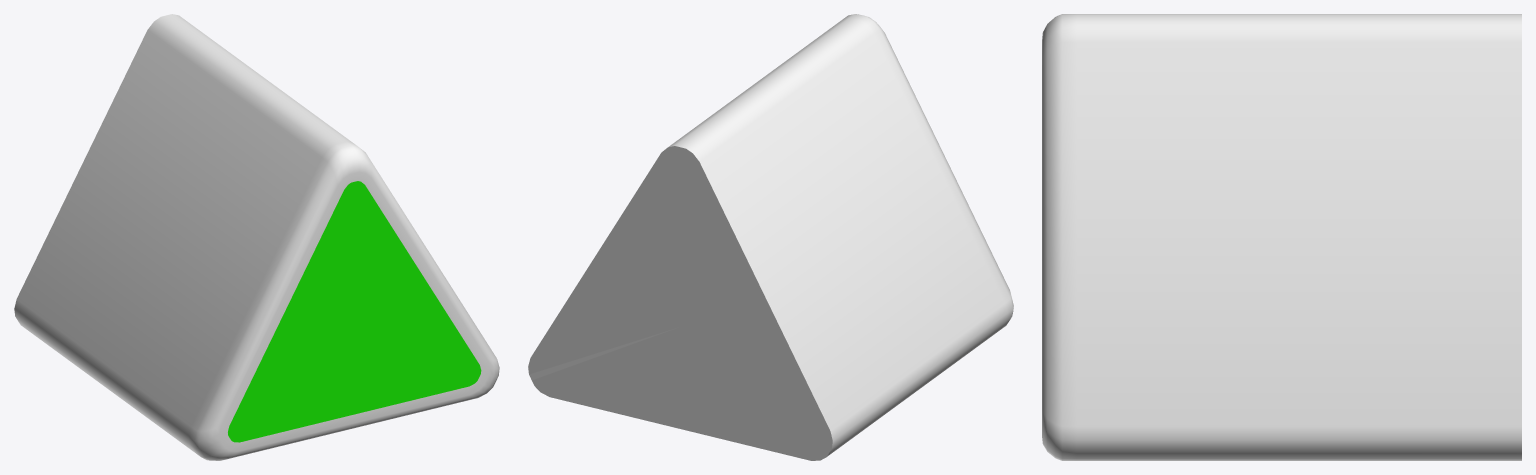
Rendered from CPI_D_FBX_06_Bumper_00_A.fbx.
3 renders of one model, left to right at view 1: azimuth 30°, elevation 25°; view 2: azimuth 150°, elevation 25°; view 3: azimuth 270°, elevation 25°, orthographic. The views are drawn at different scales.
Visible parts, largest first — view 1: CPI_D_FBX_06_Bumper_00_A; view 2: CPI_D_FBX_06_Bumper_00_A; view 3: CPI_D_FBX_06_Bumper_00_A.
Boxes of the visible parts, box(x1,y1,x2,y2) form: CPI_D_FBX_06_Bumper_00_A: box(14, 14, 499, 460); CPI_D_FBX_06_Bumper_00_A: box(528, 14, 1013, 460); CPI_D_FBX_06_Bumper_00_A: box(1042, 14, 1521, 460).
Size of the model in its own units: 1.95 by 1.73 by 2.09.
